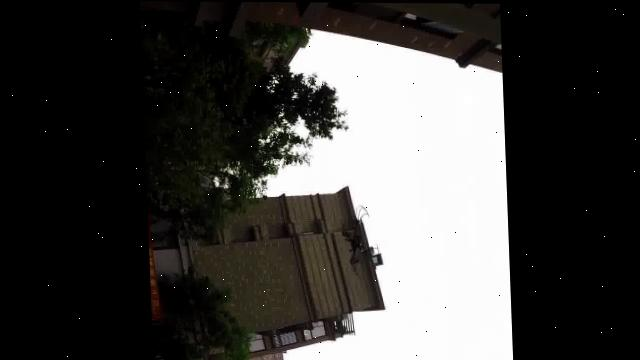drone: (335, 188, 378, 284)
